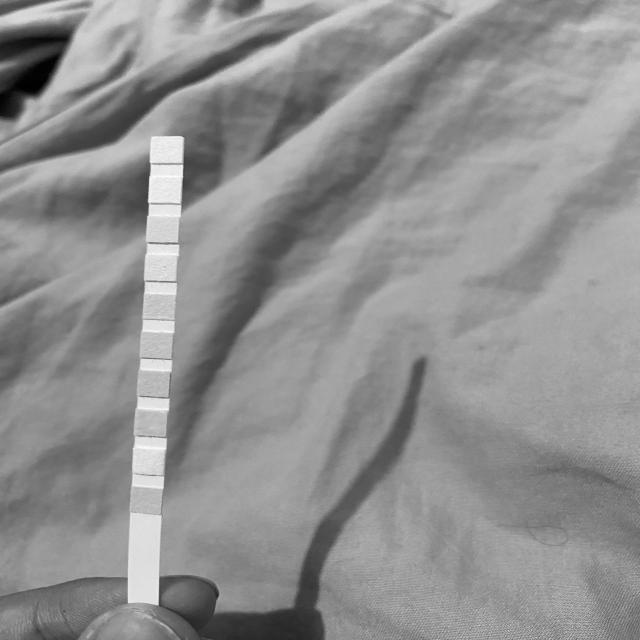Bilirubin: (134, 450, 164, 473)
Blood: (142, 332, 172, 358)
Glucose: (133, 489, 161, 513)
Ketone: (136, 411, 166, 435)
Leukocytes: (152, 137, 182, 163)
Nitrite: (150, 178, 182, 203)
Protein: (146, 256, 175, 280)
SpGravity: (139, 371, 168, 396)
Urobilinogen: (147, 216, 178, 242)
background: (0, 0, 640, 640)
pH: (144, 294, 174, 319)
strip: (128, 136, 184, 601)
